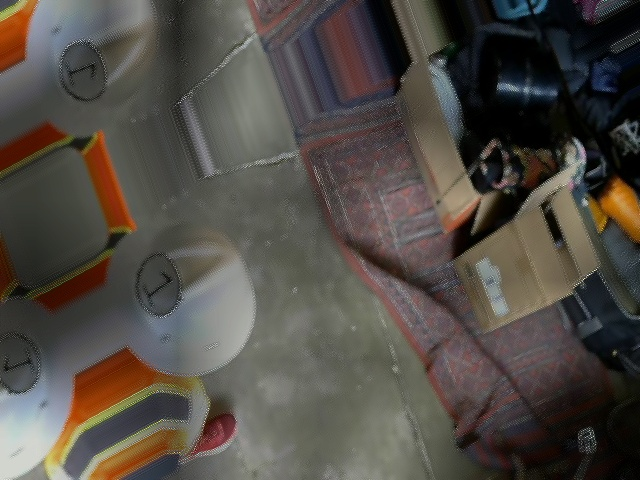one: (127, 245, 188, 325)
